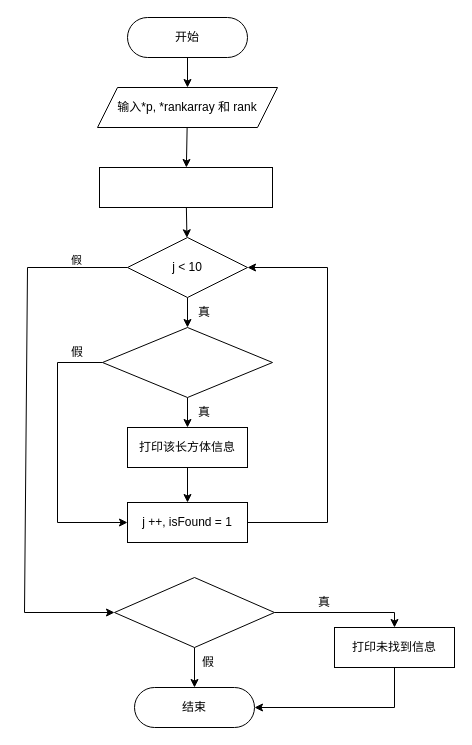
The diagram is 472 pixels wide and 745 high, and some of its shapes have lost their labels. Each missing label, with the box of its shape:
isFound = 0 ?: (114, 576, 274, 648)
rankArray[j] = rank: (102, 326, 272, 398)
循环变量 j = 0 标记变量 isFound = 1: (98, 166, 272, 208)
